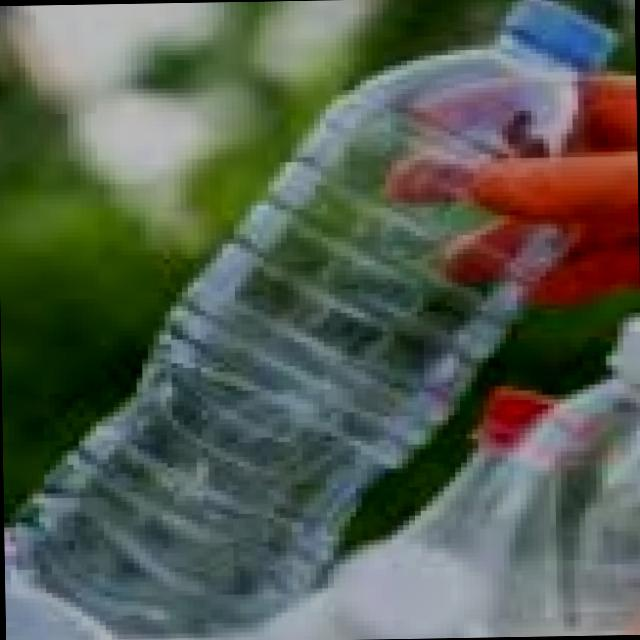Recycle: (5, 0, 633, 640)
